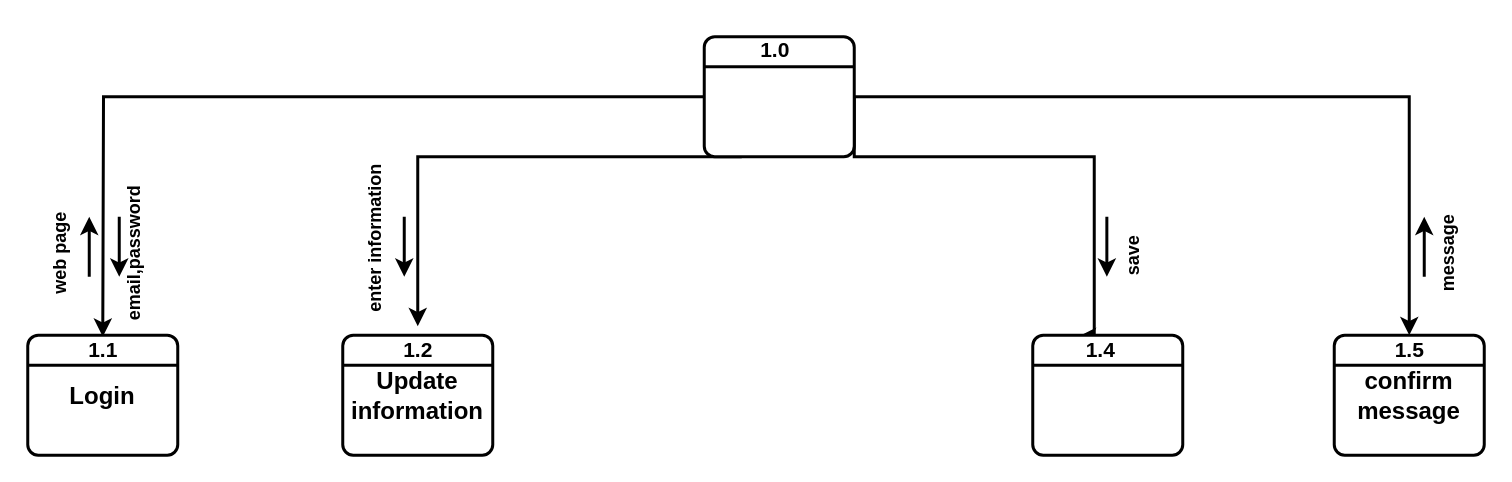
Image size: 1512x482. Some labels were removed from this diagram. Here are the shapes that lost their labels. From the top down, the box of each, then its label:
(702, 34, 855, 158): Control account
(1030, 333, 1184, 456): save changes
